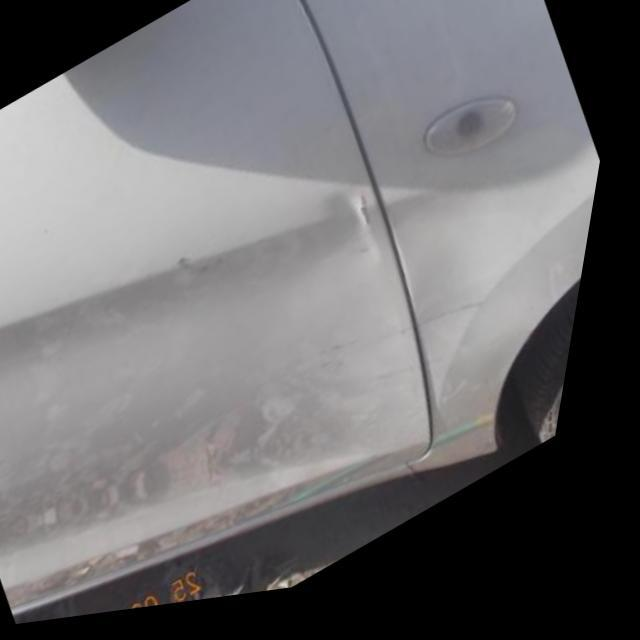crack: (359, 197, 385, 241)
dent: (181, 253, 235, 288)
scratch: (276, 302, 498, 400), (344, 355, 469, 416)
